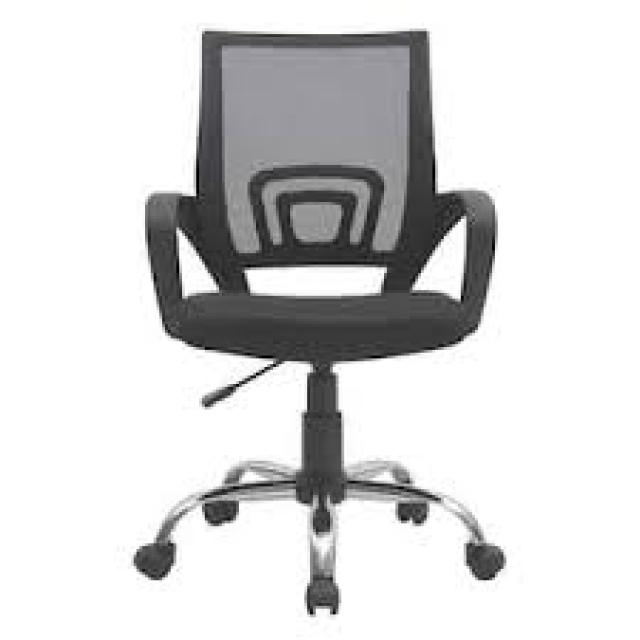chair: (110, 6, 598, 616)
